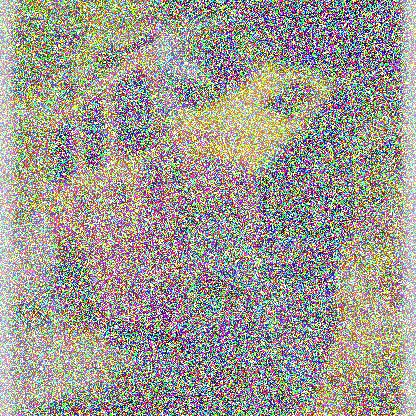Vehicle: (50, 2, 354, 414)
